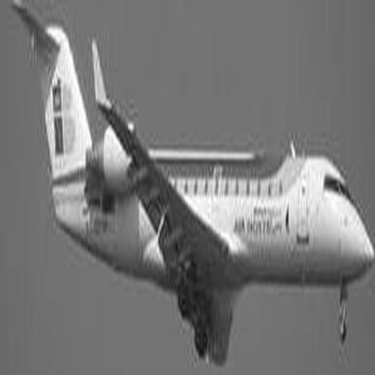airplane: (6, 5, 369, 369)
